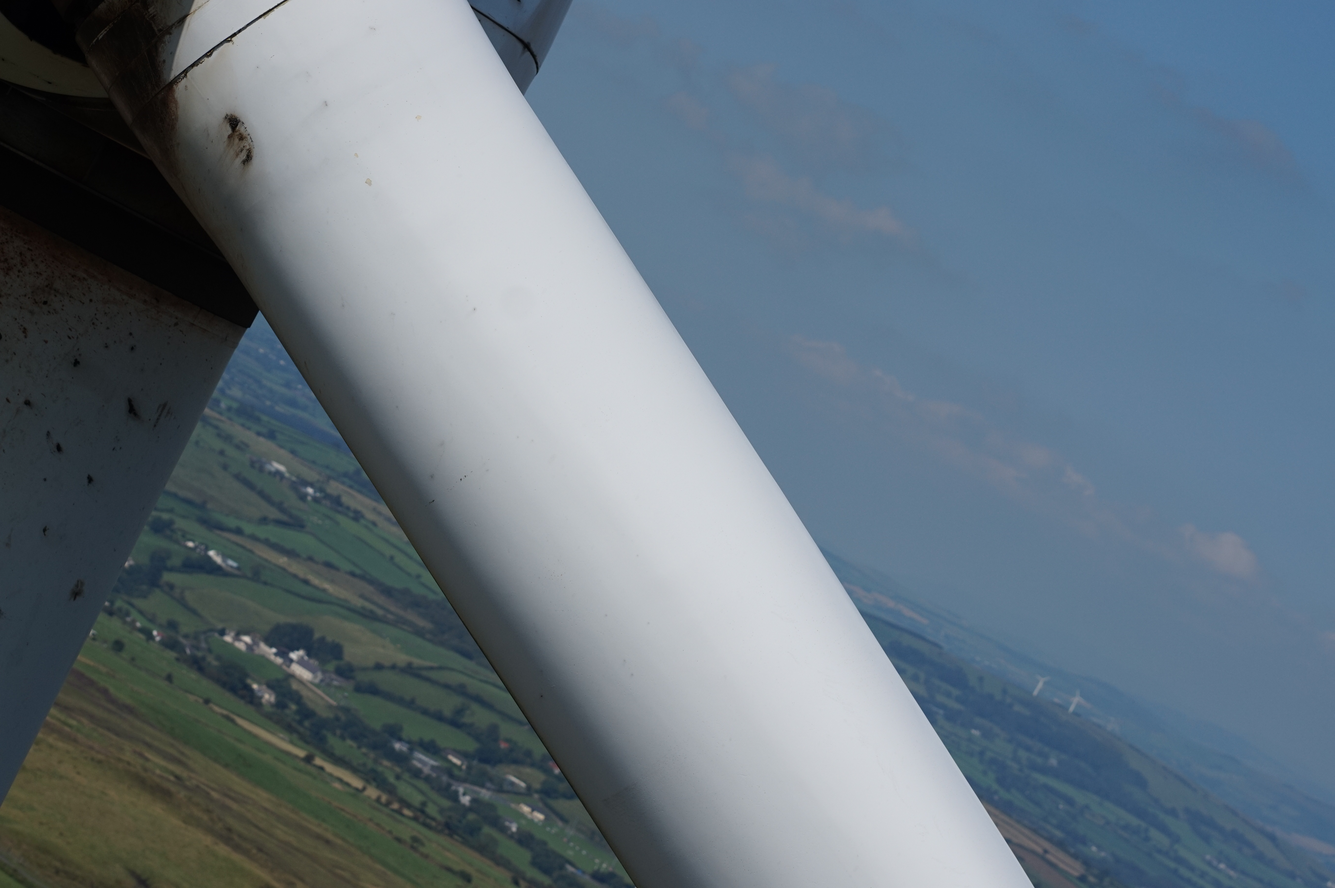Dirt: (221, 112, 255, 166)
